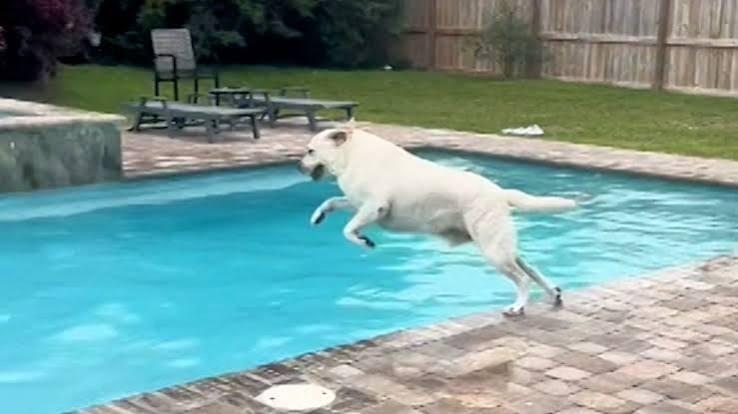adult_dog: (296, 119, 580, 317)
